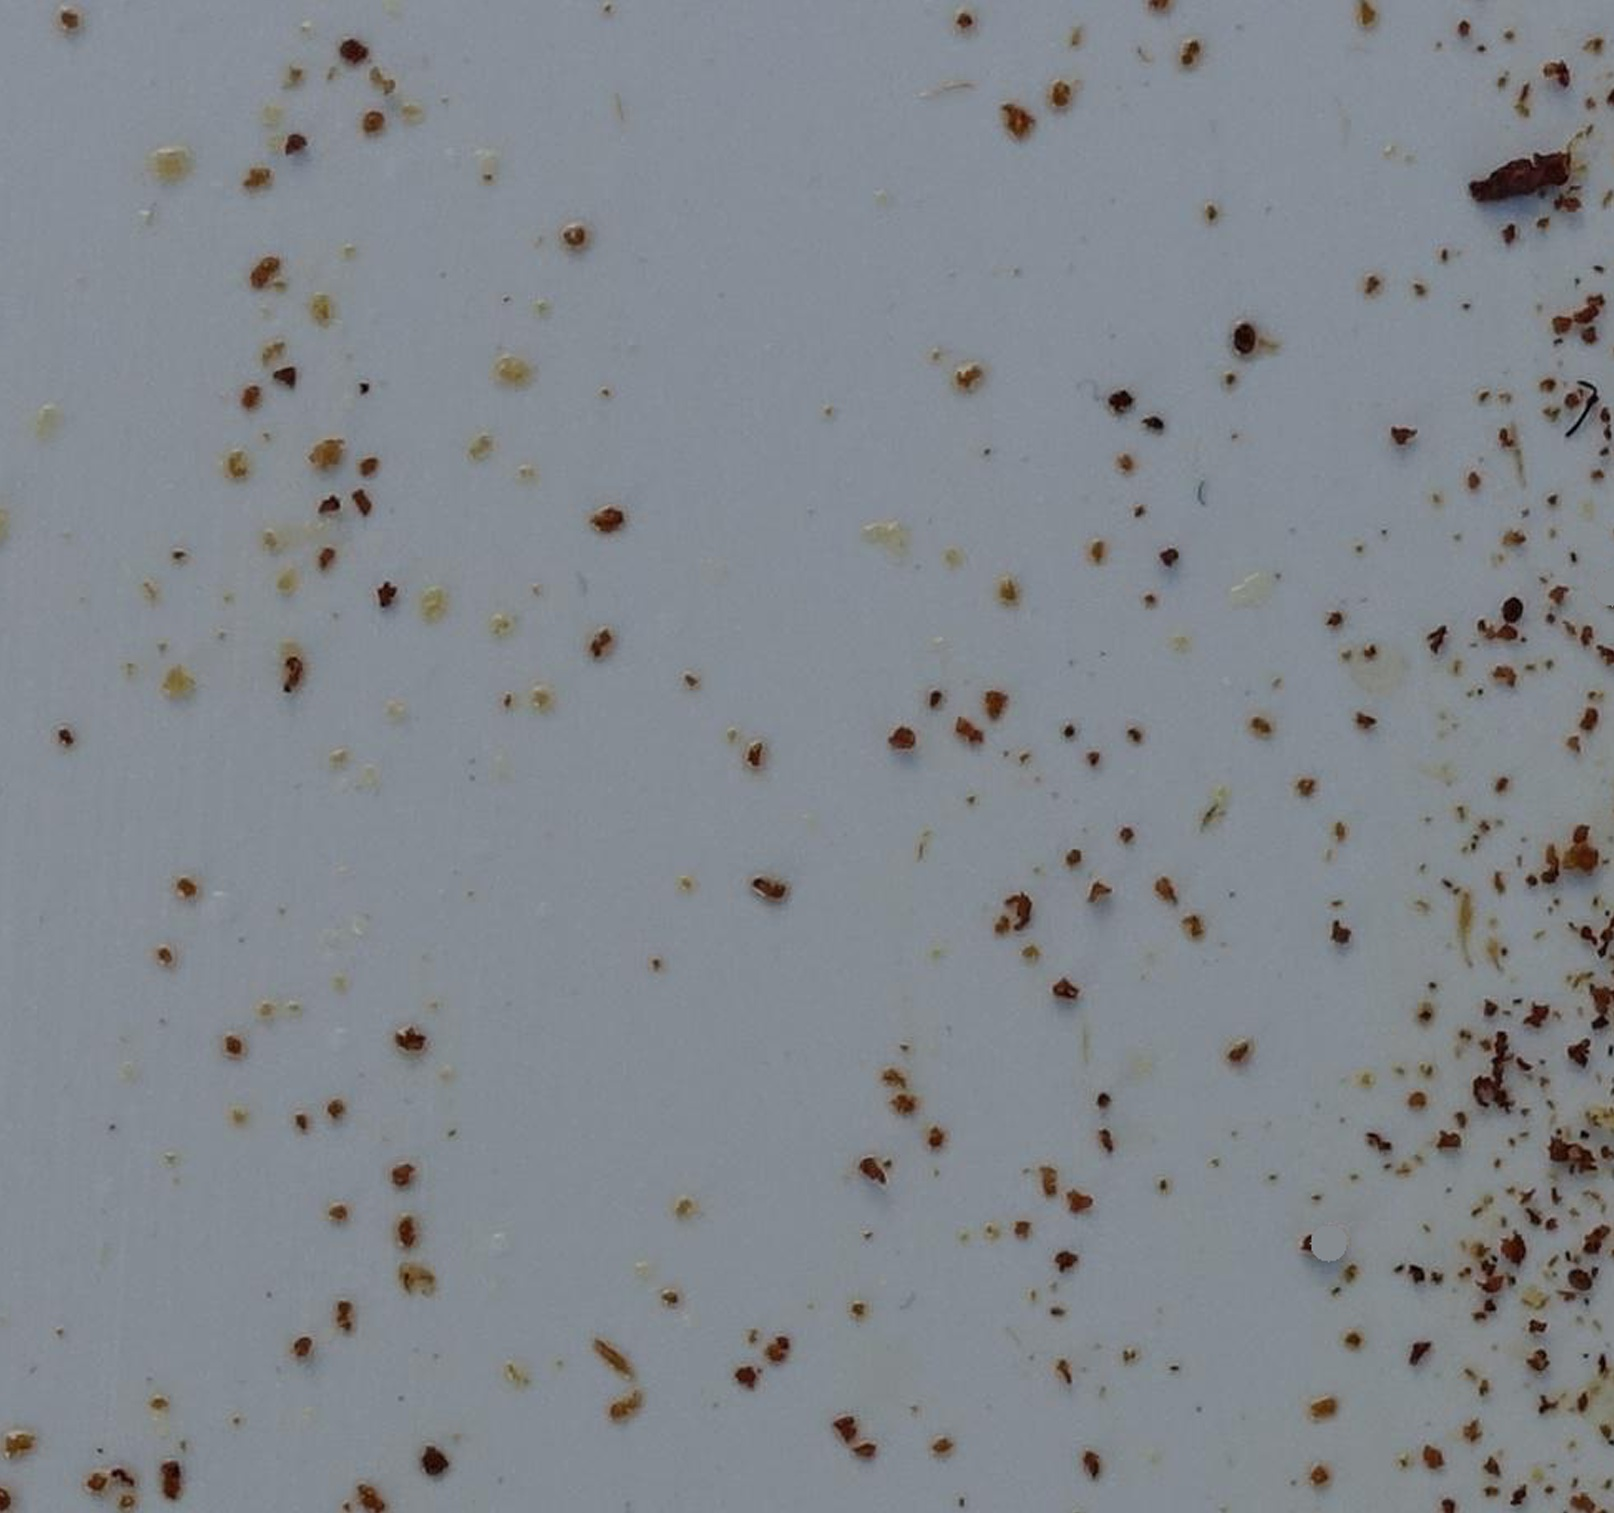Varroa: (1503, 599, 1523, 620), (1571, 1273, 1593, 1293), (1234, 328, 1253, 350)
